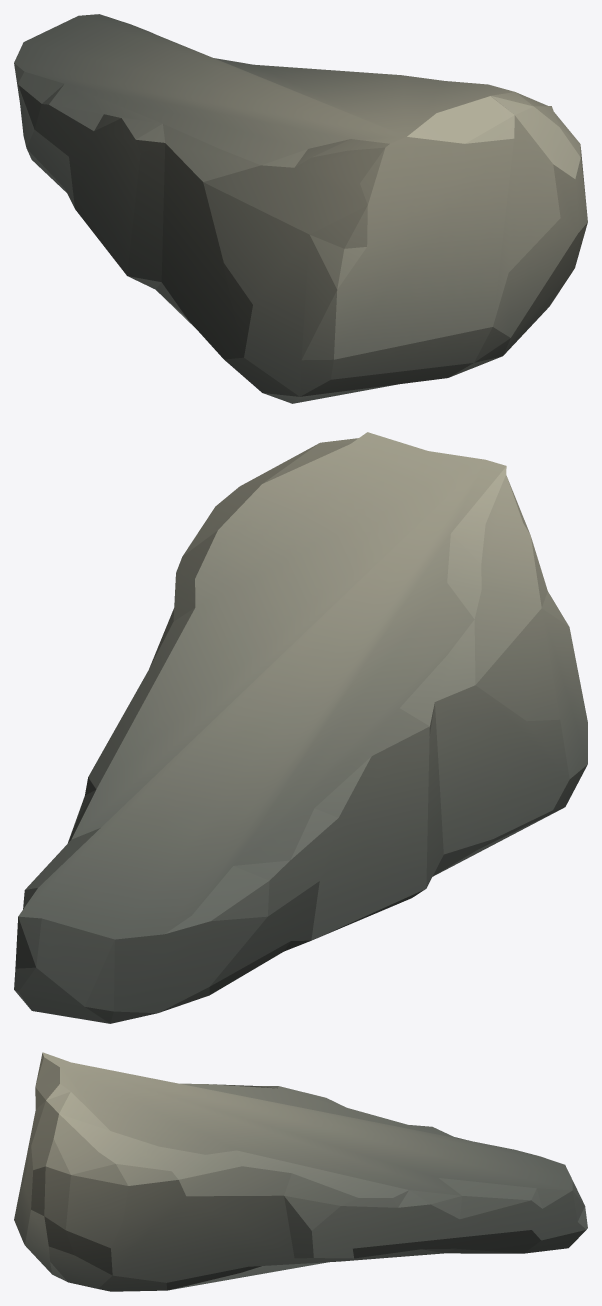
The model's file is rock_3_03.fbx.
The picture shows the model from 3 angles, top to bottom: view 1: azimuth 30°, elevation 25°; view 2: azimuth 150°, elevation 25°; view 3: azimuth 270°, elevation 25°; orthographic projection. The views are drawn at different scales.
Parts seen in each view (by area): view 1: rock_3_03; view 2: rock_3_03; view 3: rock_3_03.
Boxes of the visible parts, x1,y1,x2,y2 form: rock_3_03: (14,14,587,403); rock_3_03: (14,432,587,1023); rock_3_03: (14,1052,587,1291).
Bounding box in the file's own units: 70.61 × 58.22 × 148.
